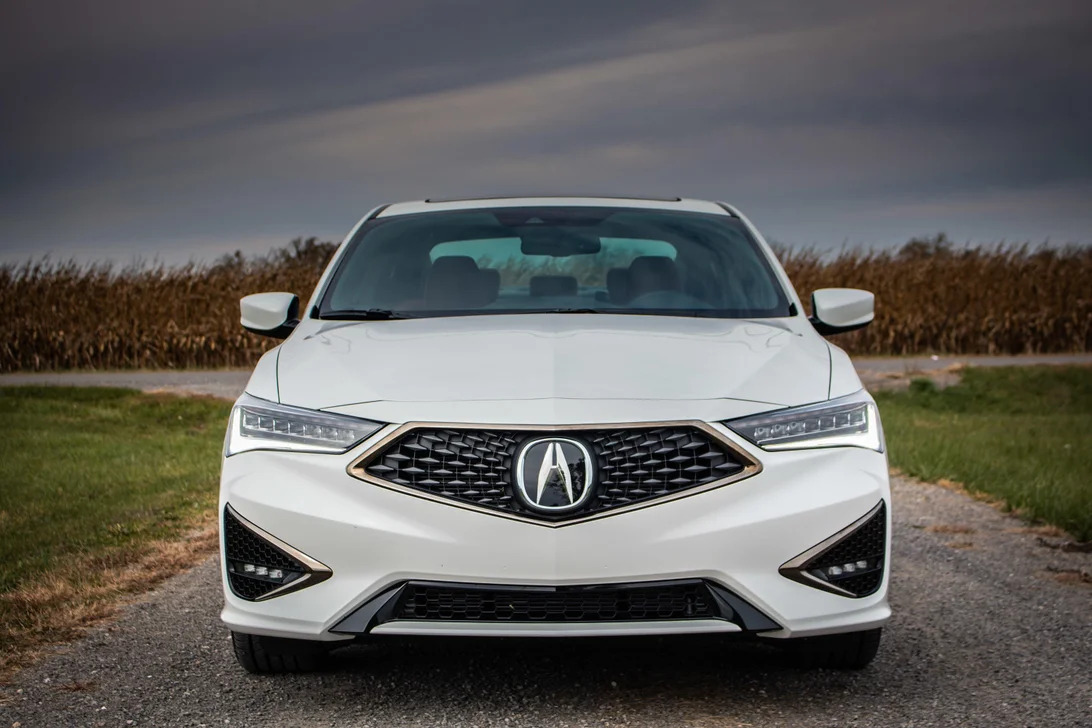Fog Lamp & Scope: (791, 508, 887, 600)
Front: (220, 328, 893, 638)
Front Bumper: (210, 522, 895, 645)
Grill: (374, 428, 728, 516)
Headlight: (743, 396, 878, 453)
